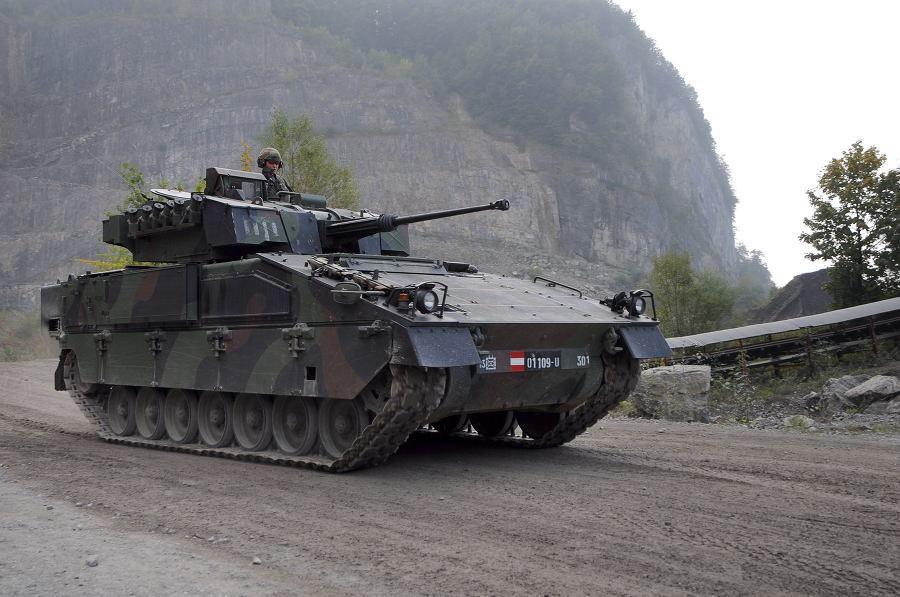MIL_IFV: (36, 149, 672, 478)
